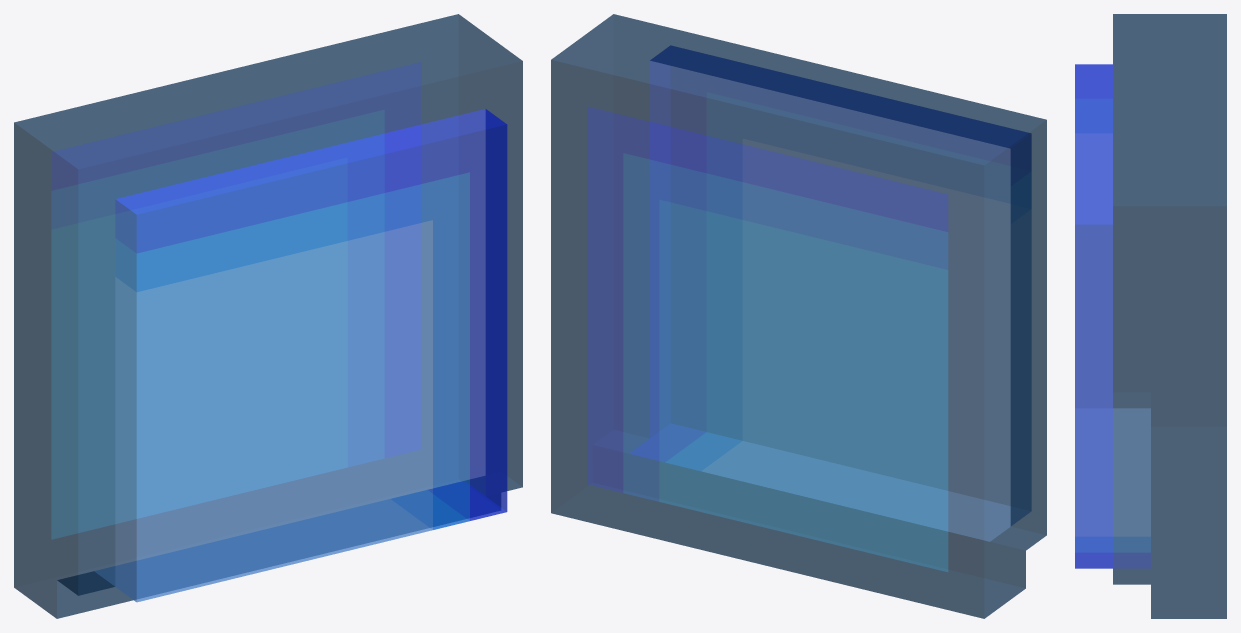
File: screen_blue.glb
The picture shows the model from 3 angles, left to right: view 1: azimuth 30°, elevation 25°; view 2: azimuth 150°, elevation 25°; view 3: azimuth 270°, elevation 25°; orthographic projection. The views are drawn at different scales.
Visible parts, largest first — view 1: bb0 screen; view 2: bb0 screen; view 3: bb0 screen.
Part boxes in pixels (bbox=[...]): bb0 screen: bbox=[14, 14, 522, 618]; bb0 screen: bbox=[551, 14, 1046, 618]; bb0 screen: bbox=[1075, 14, 1226, 618].
Size of the model in its own units: 12 by 12 by 4.
